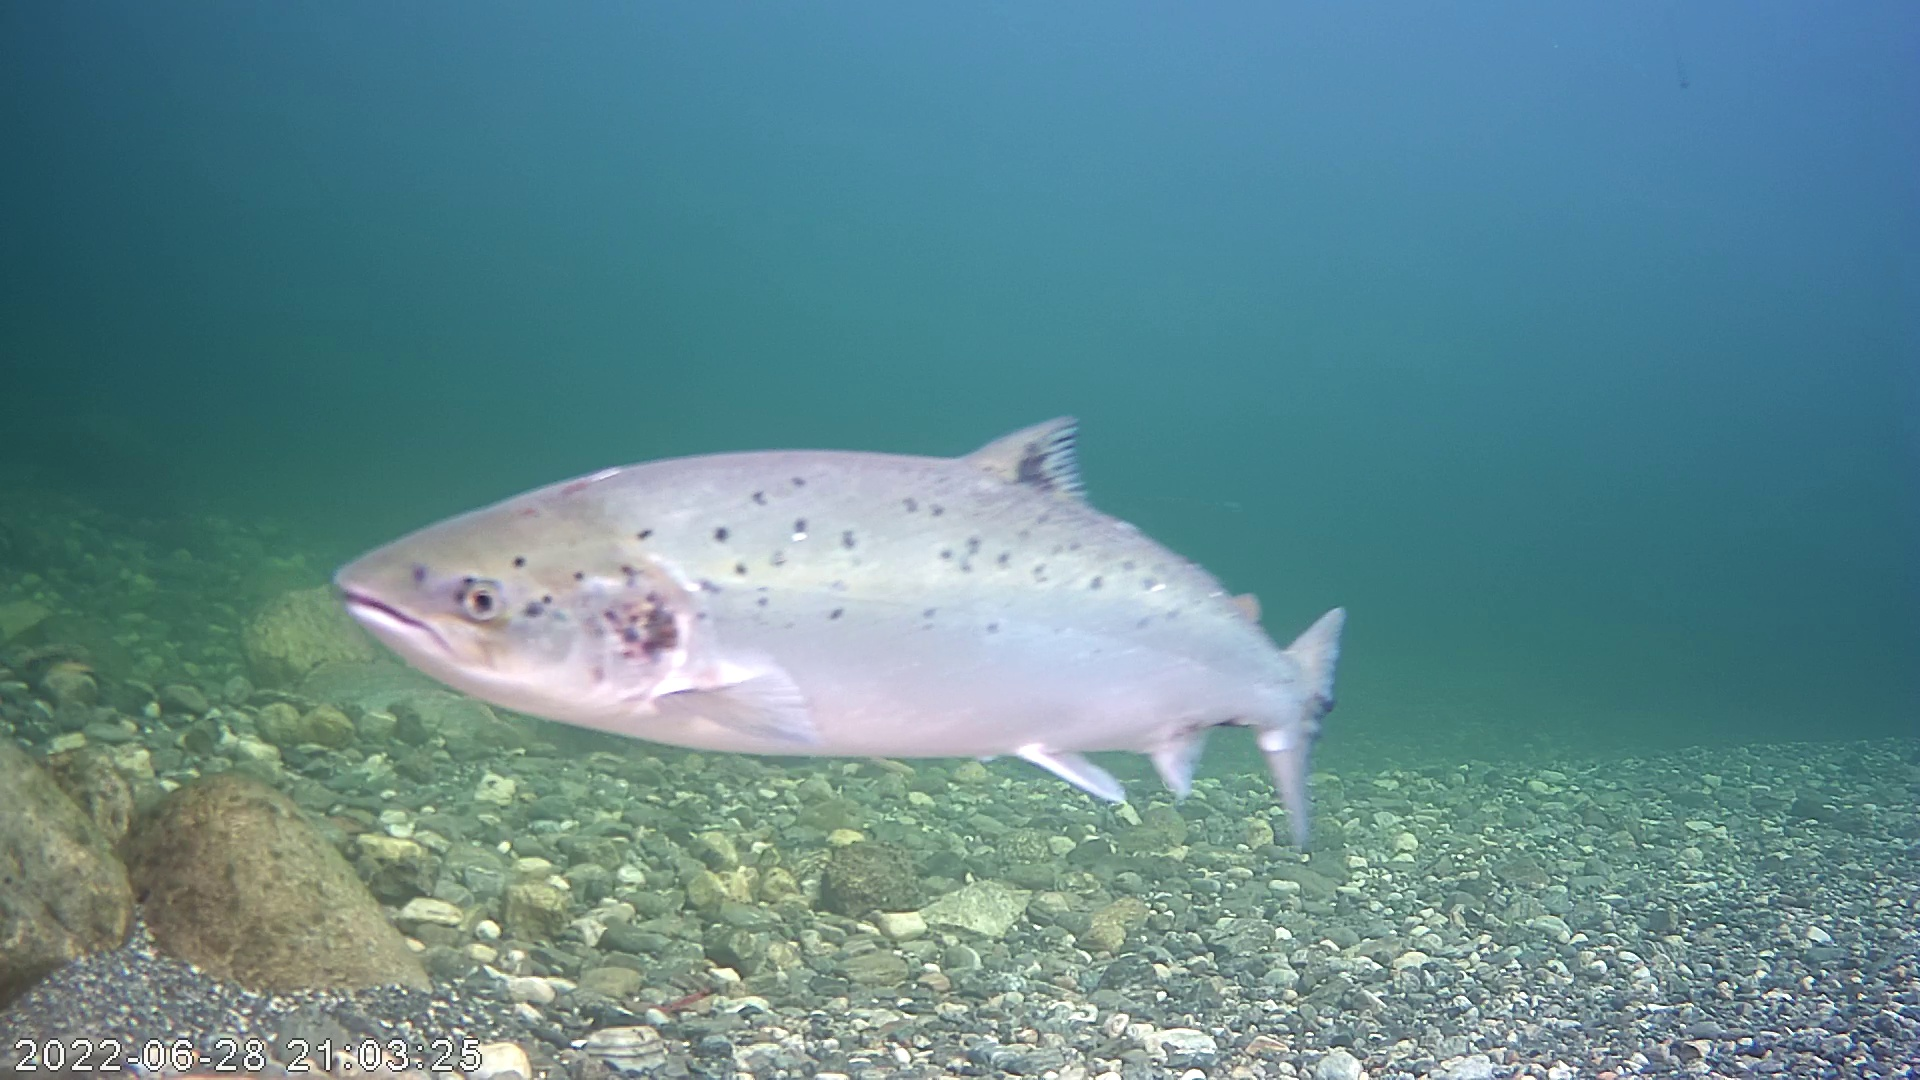salmon: (280, 334, 1360, 833)
